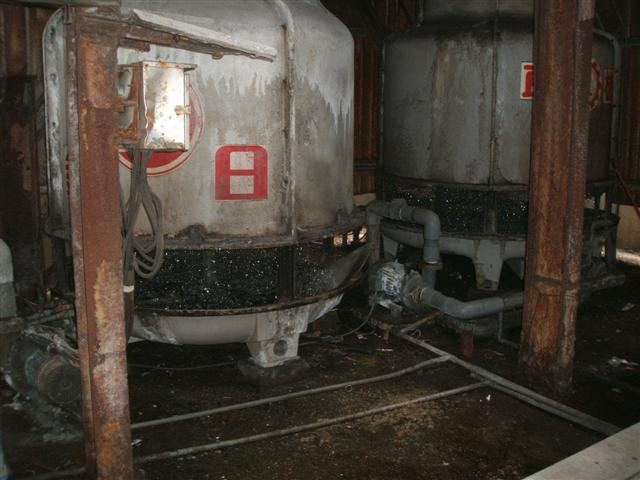water_tower: (42, 1, 356, 366), (379, 1, 620, 290)
